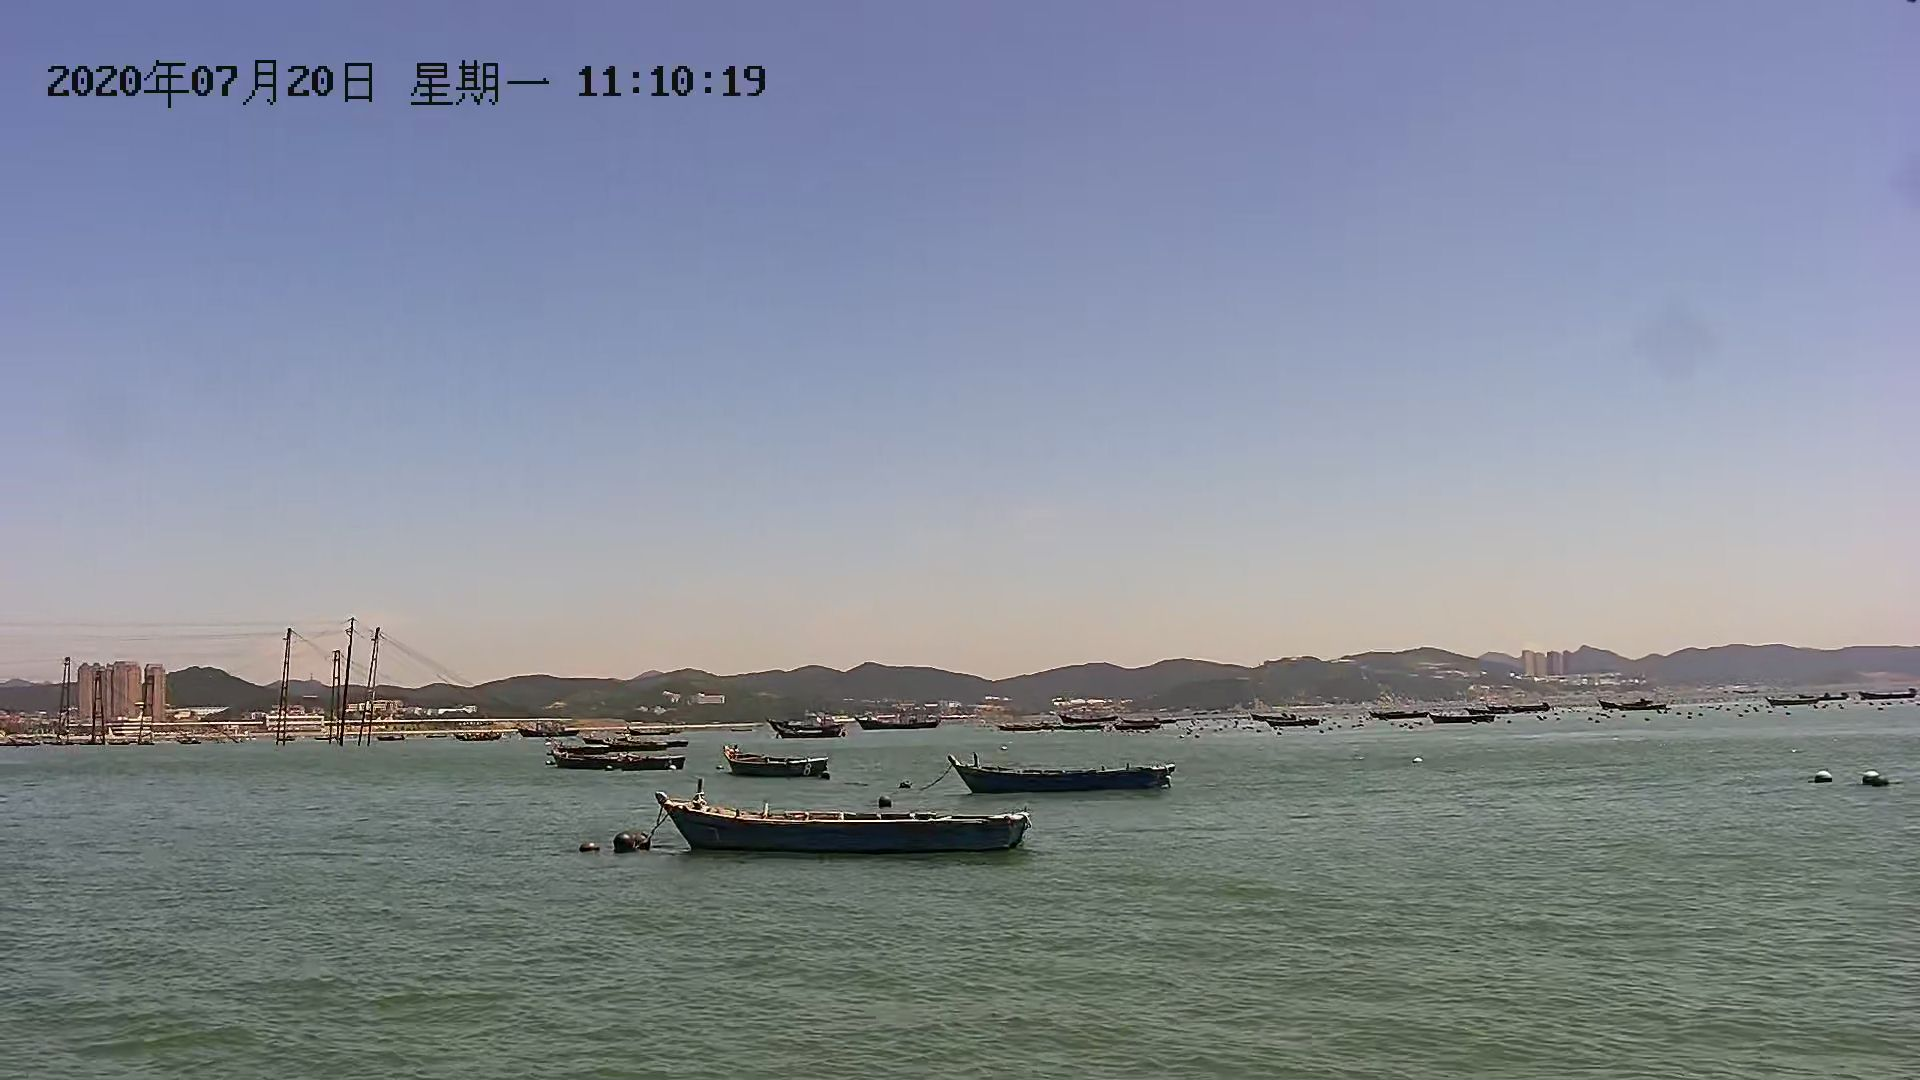ball: (1858, 764, 1884, 786), (1811, 766, 1834, 787)
boat: (633, 778, 1044, 862), (955, 757, 1180, 804), (717, 746, 843, 783), (558, 745, 696, 775), (764, 720, 858, 746), (591, 738, 692, 754)
